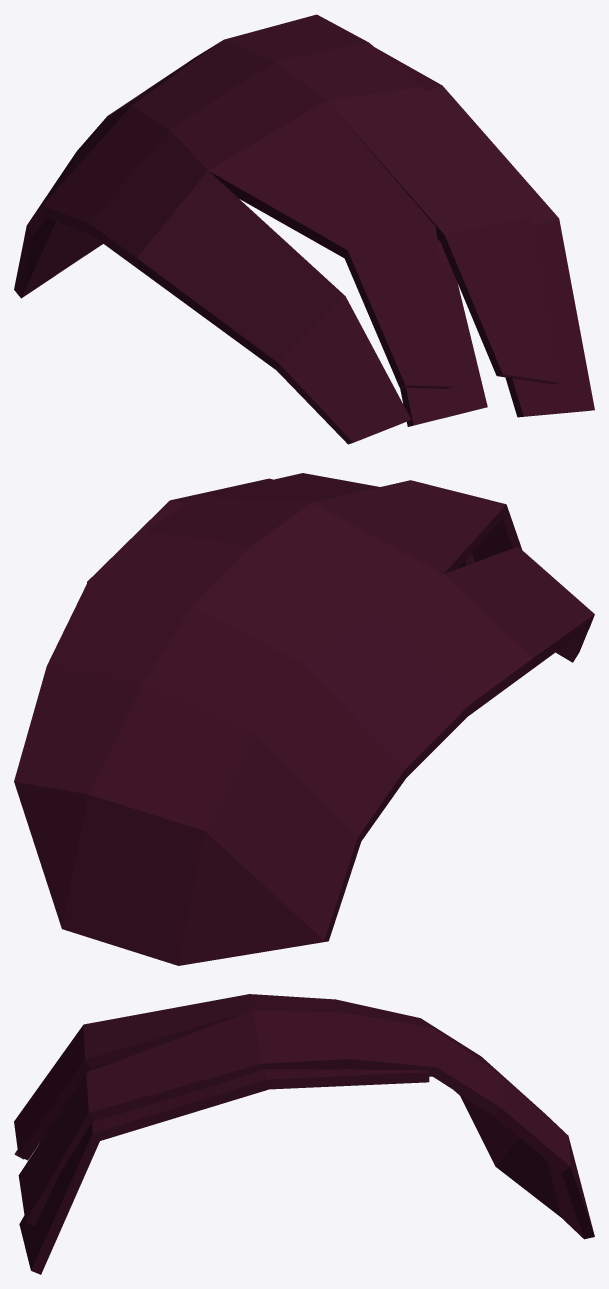
File: Hair_009.obj
The picture shows the model from 3 angles, top to bottom: view 1: azimuth 30°, elevation 25°; view 2: azimuth 150°, elevation 25°; view 3: azimuth 270°, elevation 25°; orthographic projection. The views are drawn at different scales.
Size of the model in its own units: 0.1423 by 0.1139 by 0.2562.
